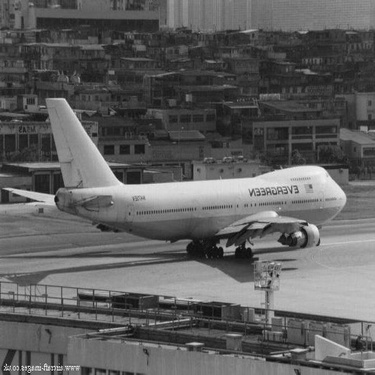airplane: (4, 89, 358, 278)
